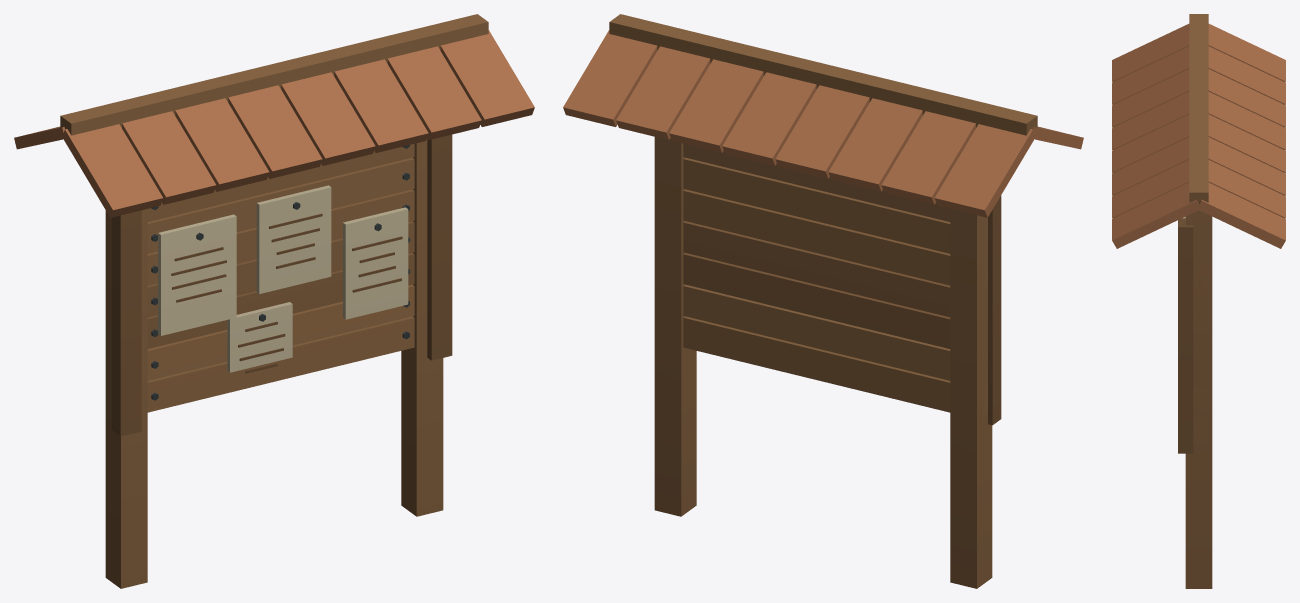
File: town_noticeboard.glb
3 views of the same model, side by side, from view 1: azimuth 30°, elevation 25°; view 2: azimuth 150°, elevation 25°; view 3: azimuth 270°, elevation 25° (orthographic). The views are drawn at different scales.
Parts seen in each view (by area): view 1: town_noticeboard; view 2: town_noticeboard; view 3: town_noticeboard.
Part boxes in pixels (x1=…): town_noticeboard: x1=14, y1=14, x2=534, y2=588; town_noticeboard: x1=563, y1=14, x2=1083, y2=588; town_noticeboard: x1=1112, y1=14, x2=1285, y2=588.
Size of the model in its own units: 2.22 by 2.39 by 0.9055.
